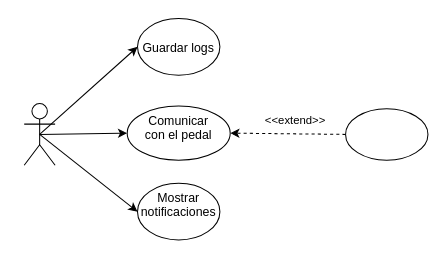
This 446x258 diagram has some shape labels left out. Here are the shapes that lost their labels. From the top down, the centre of each, then its label:
At (39,133): "Sistema".
At (386,134): "Transferir datos".
